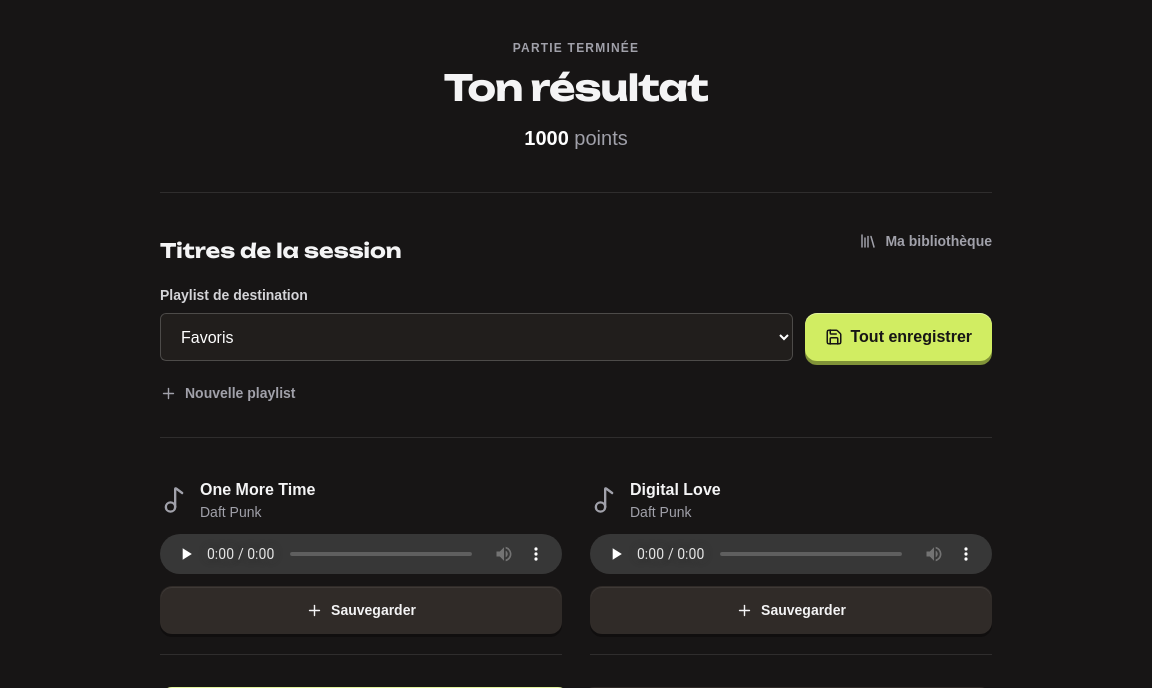
Scenario: EndScreen library actions › retries only the unsaved tracks after a partially failed session save
Click the button "Tout enregistrer" at (898, 337), box [804,313,992,361]
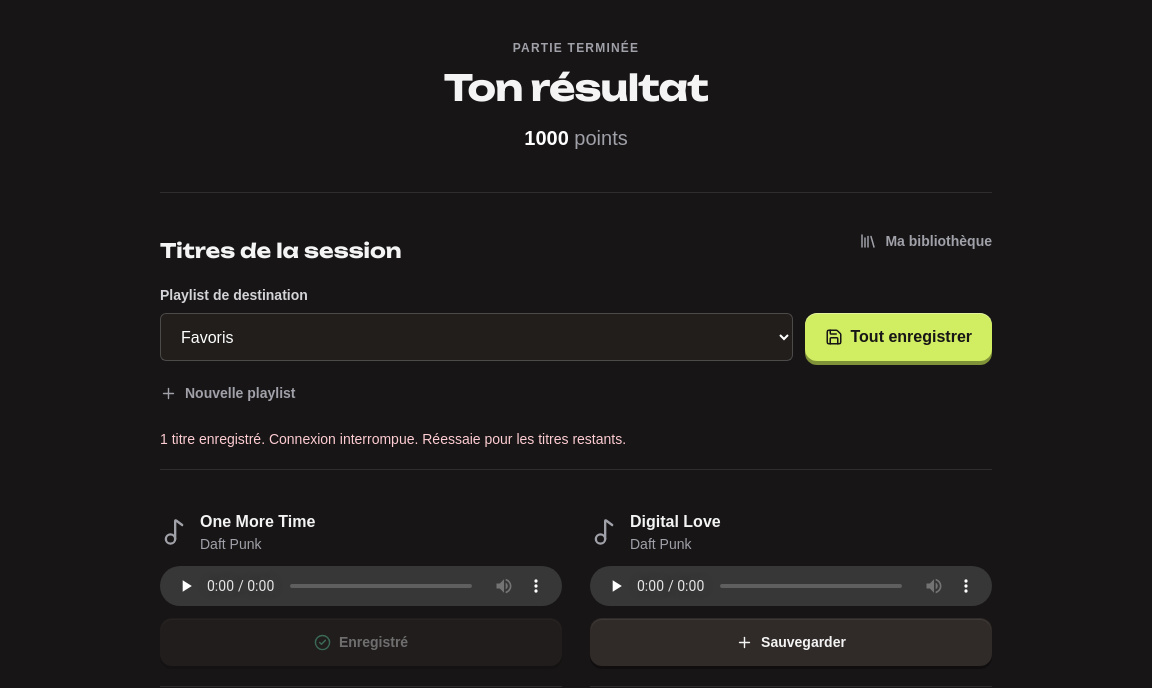
Expected: the message reads "1 titre enregistré. Connexion interrompue. Réessaie pour les titres restants.", [160,431,626,447]
Expected: the button with aria-label "one more time enregistré" is disabled, [160,618,562,666]
Click the button "Tout enregistrer" at (898, 337), box [804,313,992,361]
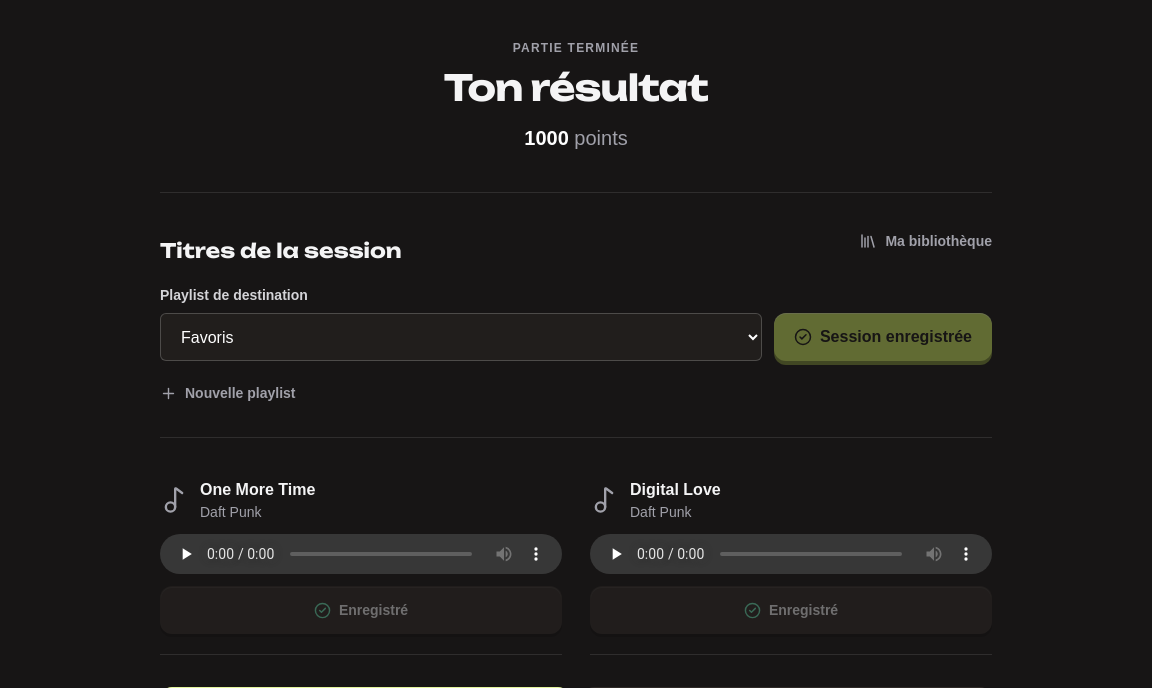
Expected: the button "Session enregistrée" is disabled, [774,313,992,361]
